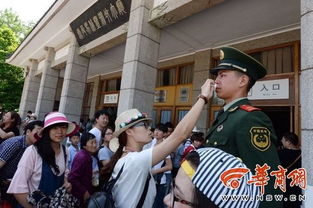10+: (1, 45, 303, 207)
